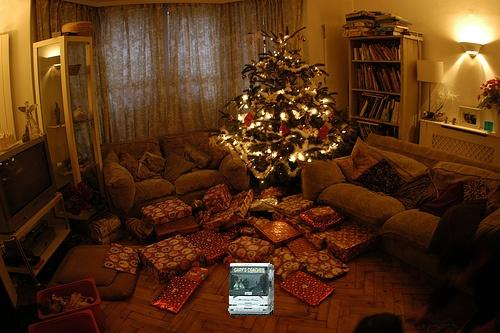tampered: (229, 264, 274, 316)
